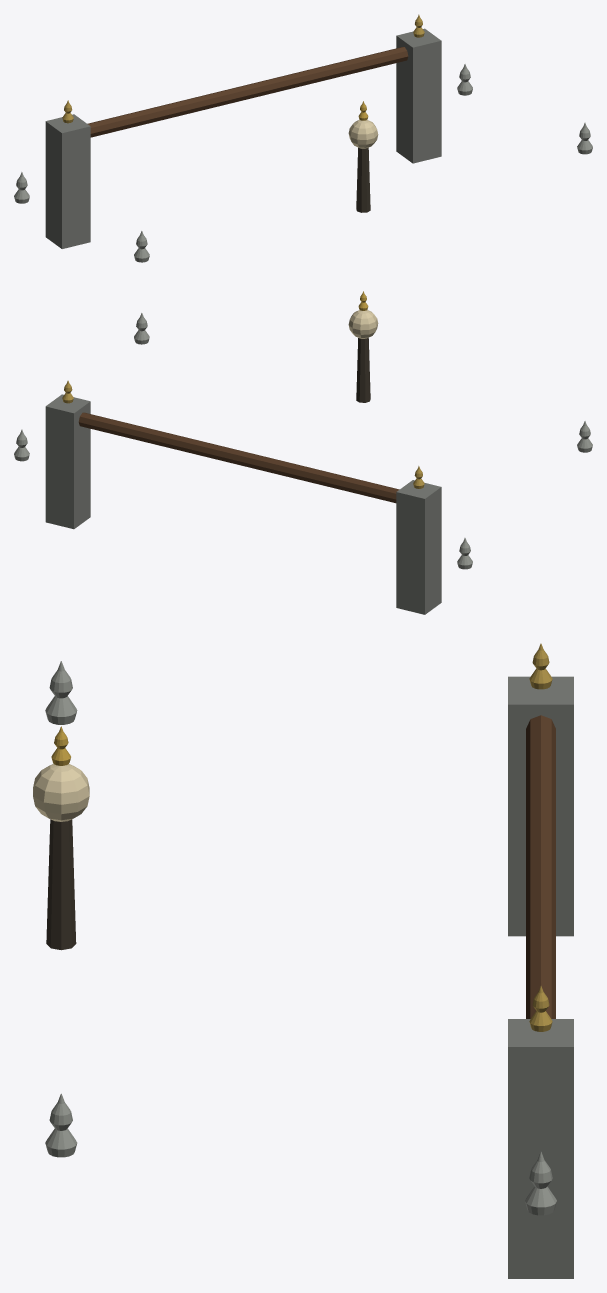
The model's file is thuyquan-hero.glb.
3 views of the same model, one above another, from view 1: azimuth 30°, elevation 25°; view 2: azimuth 150°, elevation 25°; view 3: azimuth 270°, elevation 25° (orthographic). The views are drawn at different scales.
Parts seen in each view (by area): view 1: thuyquan_hero_ornaments; view 2: thuyquan_hero_ornaments; view 3: thuyquan_hero_ornaments.
Boxes of the visible parts, x1,y1,x2,y2 form: thuyquan_hero_ornaments: (14,14,592,262); thuyquan_hero_ornaments: (14,291,592,614); thuyquan_hero_ornaments: (33,643,573,1278).
Size of the model in its own units: 9.89 by 3.8 by 5.08.
